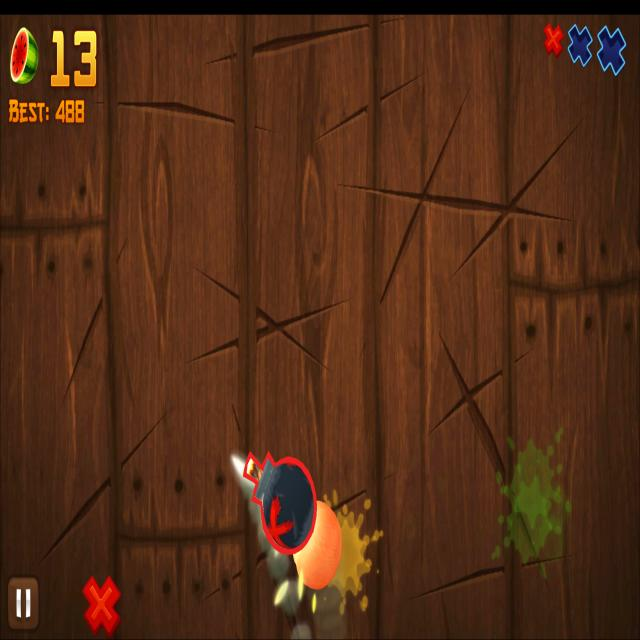bomb: (242, 449, 317, 555)
fruit: (293, 499, 342, 591)
